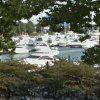Boat: (1, 35, 73, 76)
